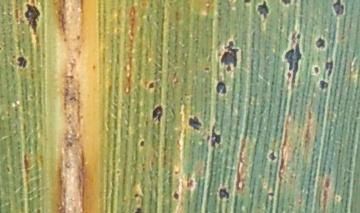tarspot: (284, 42, 302, 88), (219, 41, 238, 71), (24, 2, 39, 37), (211, 124, 220, 149), (257, 1, 269, 19), (332, 1, 345, 17), (152, 104, 163, 122), (188, 115, 201, 129), (215, 82, 228, 95), (16, 56, 28, 69), (217, 187, 229, 200), (315, 36, 326, 50), (325, 60, 334, 77), (318, 78, 328, 89), (185, 178, 195, 189), (268, 151, 277, 162), (266, 189, 275, 198), (137, 138, 145, 147), (172, 191, 180, 200), (313, 65, 320, 75), (147, 81, 155, 89), (294, 30, 301, 39), (5, 165, 12, 173), (281, 1, 292, 6), (203, 65, 210, 72), (115, 168, 121, 175), (173, 169, 180, 175), (134, 208, 141, 213), (36, 207, 41, 213), (241, 1, 251, 4), (341, 34, 346, 40), (135, 192, 139, 199)
